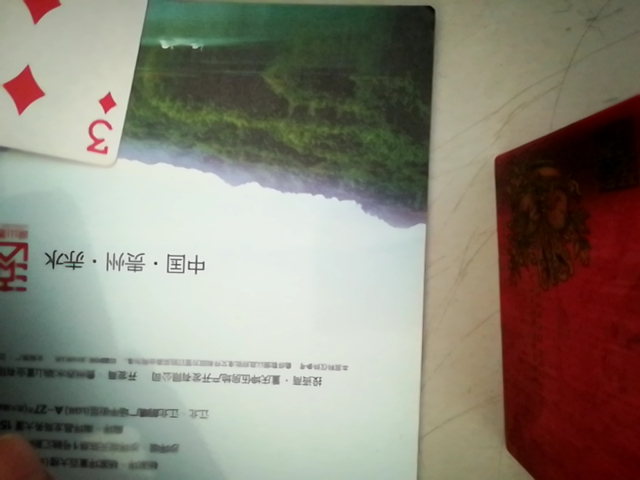fk 3: (2, 0, 165, 171)
